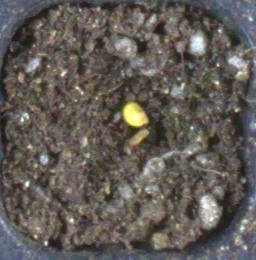pepper seed: (46, 53, 198, 202), (46, 37, 197, 164)
